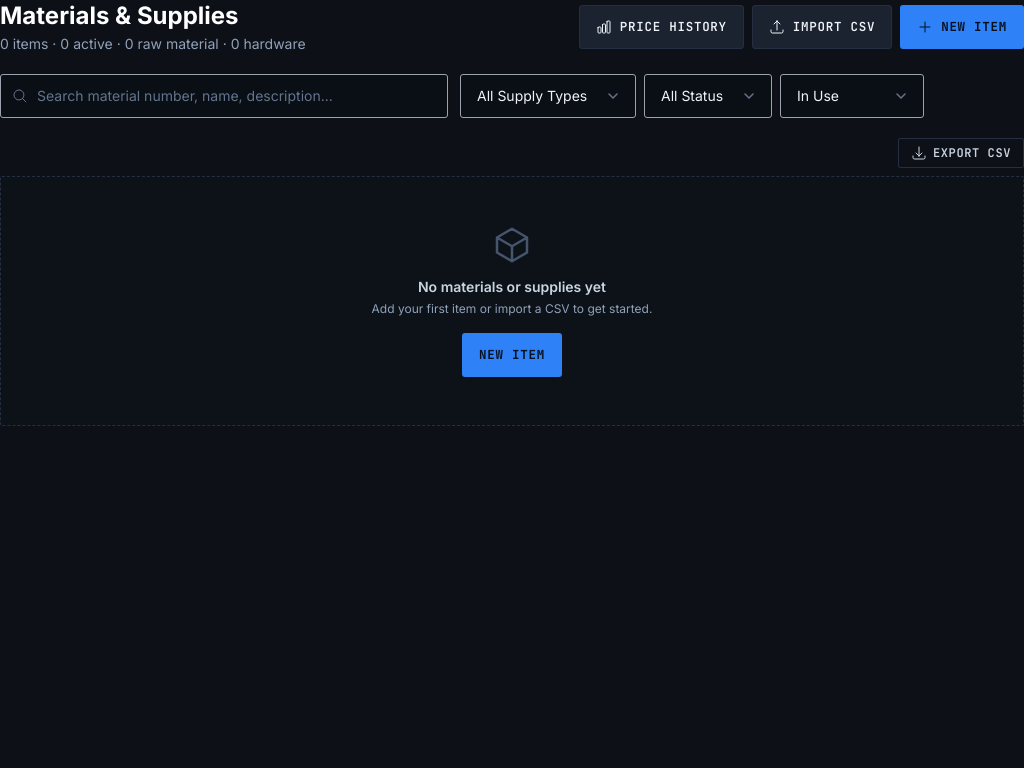
Test case: Materials form — unsaved-changes discard guard › does NOT prompt on a successful save even though the form is dirty
The image size is (1024, 768).
Click the button "New Item" in the row of "Price history": (962, 27) x1=900 y1=5 x2=1023 y2=49
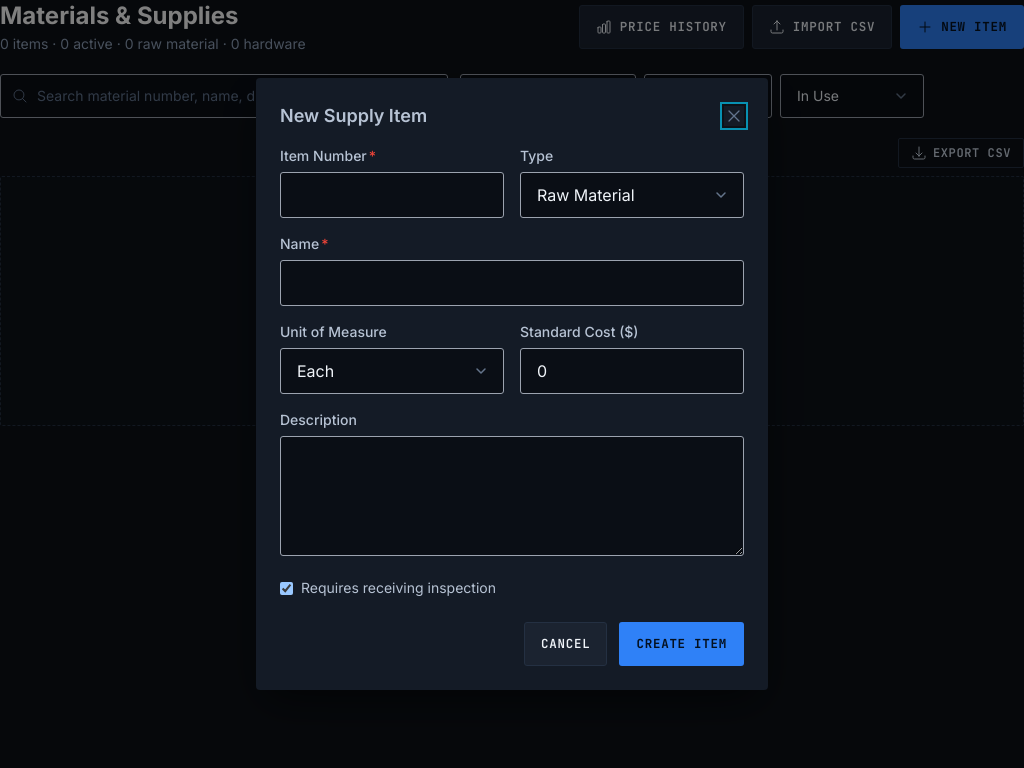
In the field labelled "Item Number*": (392, 195) x1=280 y1=172 x2=504 y2=218, type "RM-1001"
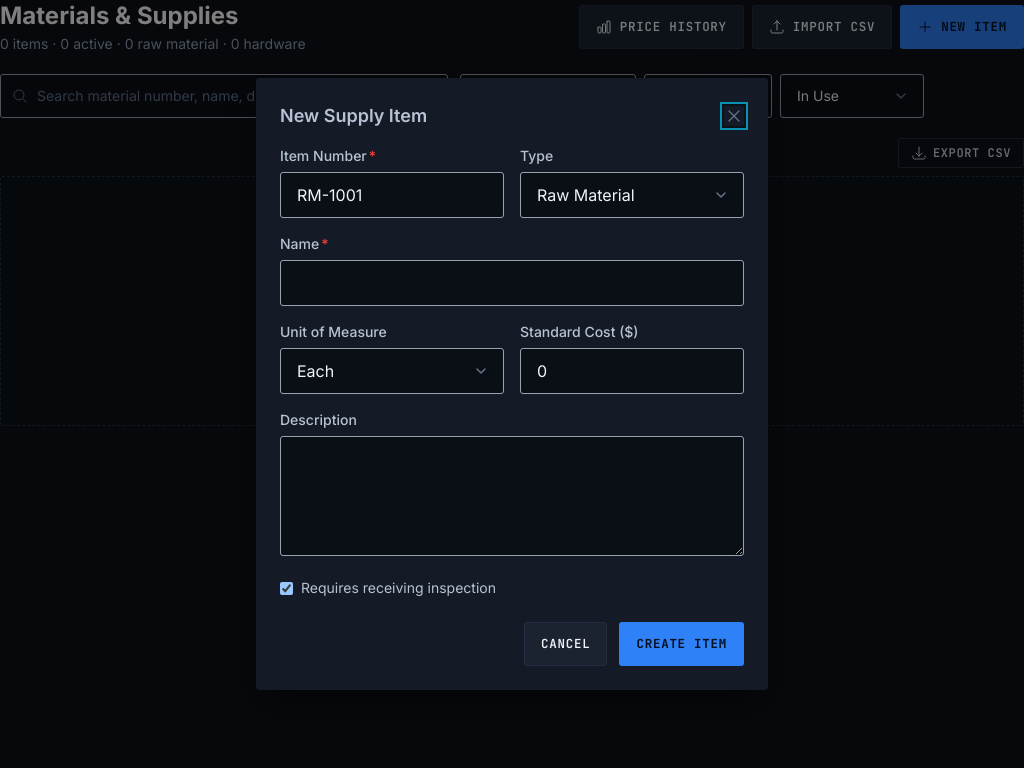
In the field labelled "Name*": (512, 283) x1=280 y1=260 x2=744 y2=306, type "Aluminum Plate"
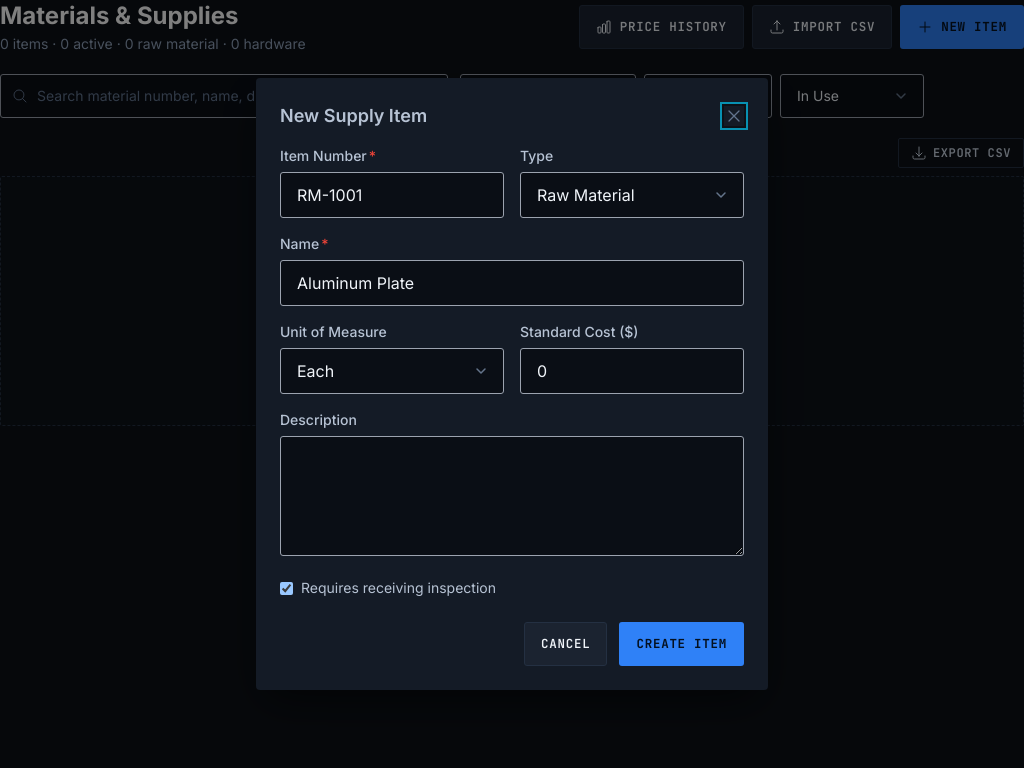
Submit the form labelled "Item Number", box x1=280 y1=146 x2=744 y2=666
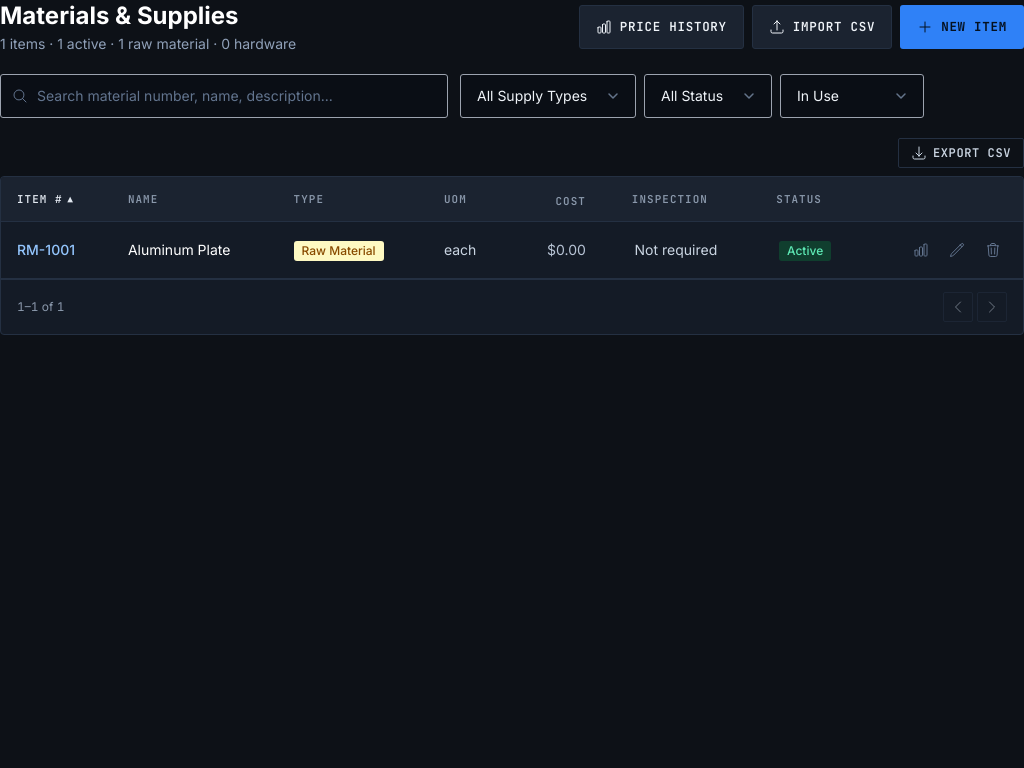
expect the label labelled "Item Number" is gone: met
